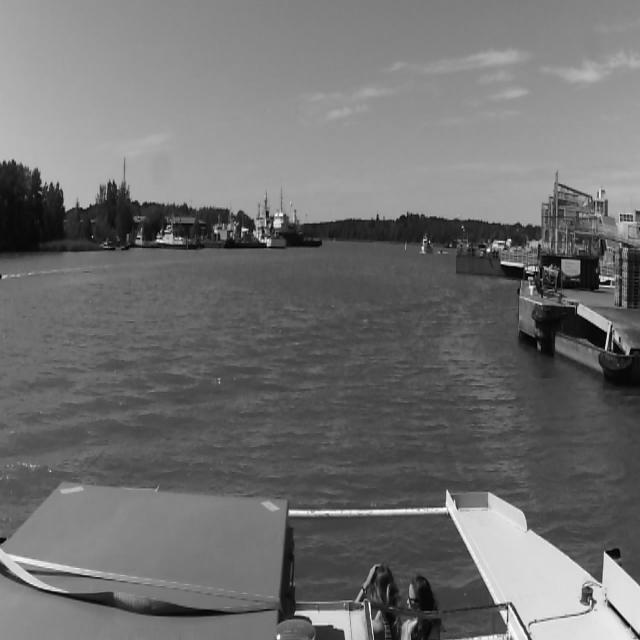ship: (276, 186, 322, 241), (250, 188, 276, 246), (156, 227, 193, 248), (268, 233, 286, 246), (420, 237, 432, 254), (102, 239, 116, 250), (121, 242, 132, 250), (437, 249, 449, 256)
